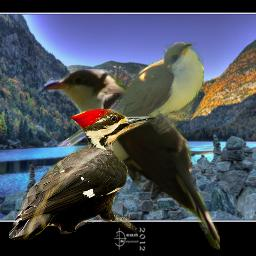Cuckoo: (38, 69, 220, 250), (55, 42, 204, 148)
Woodpecker: (9, 109, 159, 240)
